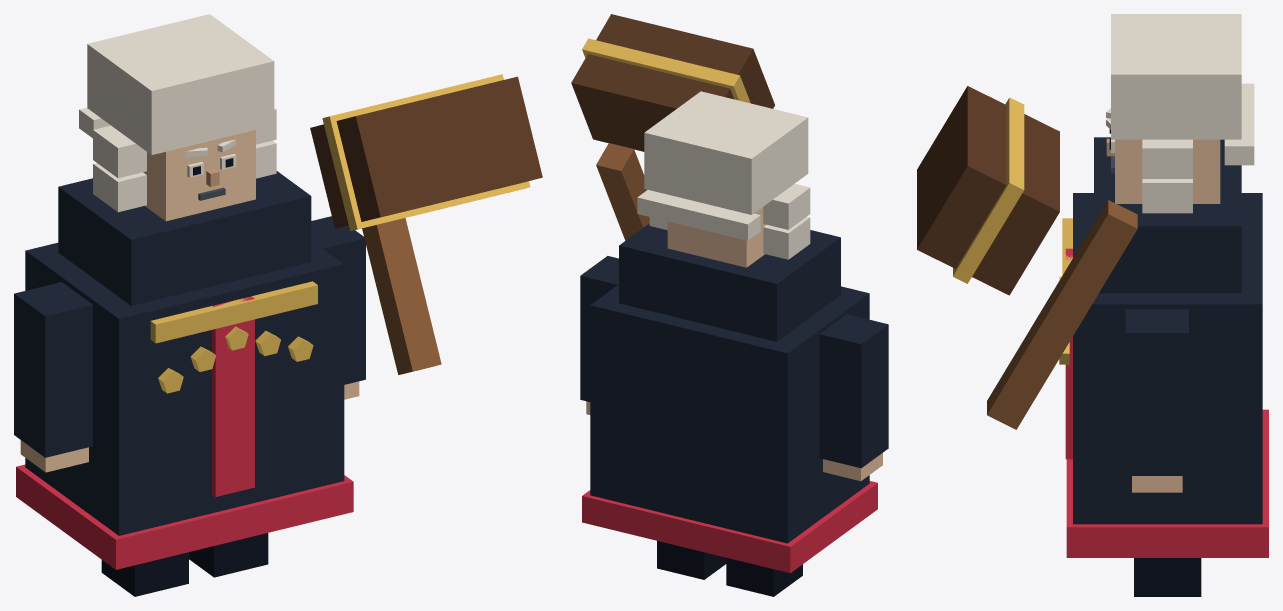
Rendered from enemy_speaker.glb.
3 views of the same model, side by side, from view 1: azimuth 30°, elevation 25°; view 2: azimuth 150°, elevation 25°; view 3: azimuth 270°, elevation 25° (orthographic). The views are drawn at different scales.
Parts seen in each view (by area): view 1: enemy_speaker; view 2: enemy_speaker; view 3: enemy_speaker.
Part boxes in pixels (<box>): enemy_speaker: <box>14,14,542,596</box>; enemy_speaker: <box>571,14,888,596</box>; enemy_speaker: <box>917,14,1268,596</box>.
Size of the model in its own units: 2.22 by 2.72 by 1.67.
Materials: 1 (1 with a texture image).
